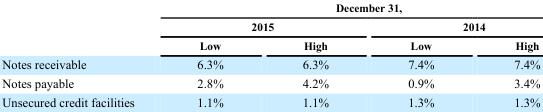table: (1, 1, 539, 108)
table column: (1, 1, 165, 108), (367, 1, 473, 108), (262, 1, 367, 108), (165, 1, 262, 108), (473, 1, 539, 108)
table column header: (1, 1, 539, 54)
table row: (1, 35, 539, 54), (1, 54, 539, 73), (1, 73, 539, 92), (1, 17, 539, 35), (1, 1, 539, 17), (1, 92, 539, 108)
table spanning cell: (165, 1, 539, 17), (165, 17, 367, 35), (367, 17, 539, 35)
